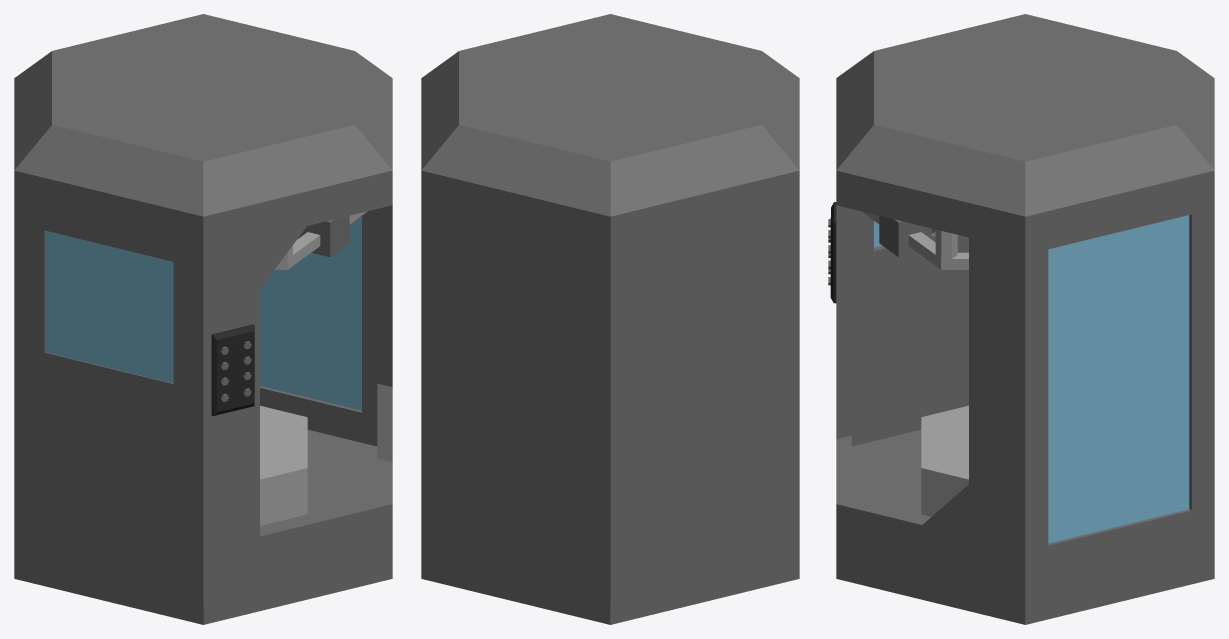
File: Circuit Printer.fbx
3 views of the same model, side by side, from view 1: azimuth 30°, elevation 25°; view 2: azimuth 150°, elevation 25°; view 3: azimuth 270°, elevation 25° (orthographic).
Parts seen in each view (by area): view 1: Circcuit_Printer; view 2: Circcuit_Printer; view 3: Circcuit_Printer.
Part boxes in pixels (box(x1,y1,x2,y2)): Circcuit_Printer: box(14, 14, 392, 624); Circcuit_Printer: box(421, 14, 799, 624); Circcuit_Printer: box(828, 14, 1214, 624).
Bounding box in the file's own units: 2.3 × 2.58 × 2.03.
